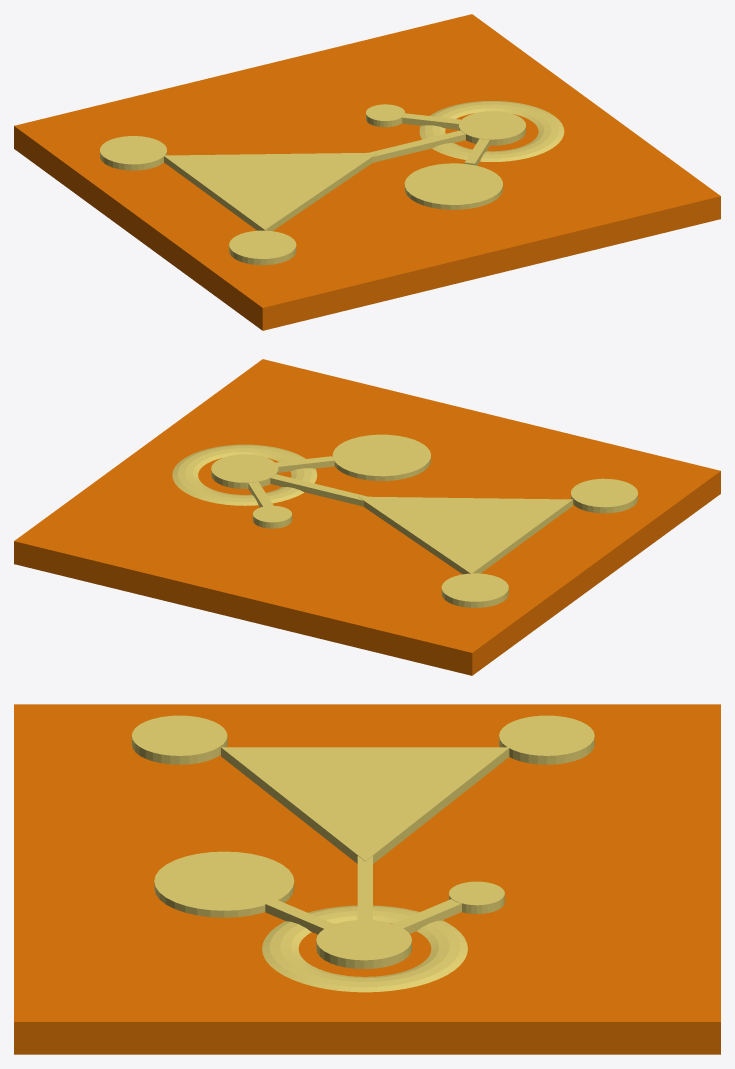
The model's file is Crop_Circle.fbx.
The picture shows the model from 3 angles, top to bottom: view 1: azimuth 30°, elevation 25°; view 2: azimuth 150°, elevation 25°; view 3: azimuth 270°, elevation 25°; orthographic projection. The views are drawn at different scales.
Visible parts, largest first — view 1: Cube, Cube.001, Cylinder.004, Torus, Cylinder.001, Cylinder, Cylinder.002, Cube.002, Cylinder.003, Cube.003; view 2: Cube, Cube.001, Cylinder.004, Torus, Cylinder, Cylinder.001, Cylinder.002, Cube.002, Cylinder.003, Cube.004; view 3: Cube, Cube.001, Cylinder.004, Torus, Cylinder.002, Cylinder.001, Cylinder, Cylinder.003, Cube.004, Cube.003, Cube.002.
Part boxes in pixels (<box>): Cube: <box>14,14,720,330</box>; Cube.001: <box>164,152,377,230</box>; Cylinder.004: <box>404,163,502,209</box>; Torus: <box>419,101,564,161</box>; Cylinder.001: <box>229,230,296,265</box>; Cylinder: <box>100,136,166,170</box>; Cylinder.002: <box>459,111,525,145</box>; Cube.002: <box>370,130,465,162</box>; Cylinder.003: <box>366,104,405,127</box>; Cube.003: <box>402,113,461,129</box>; Cube: <box>14,359,720,675</box>; Cube.001: <box>358,496,572,574</box>; Cylinder.004: <box>332,434,430,480</box>; Torus: <box>172,444,317,505</box>; Cylinder: <box>441,573,508,607</box>; Cylinder.001: <box>571,478,637,513</box>; Cylinder.002: <box>211,454,278,488</box>; Cube.002: <box>270,474,366,506</box>; Cylinder.003: <box>252,505,292,528</box>; Cube.004: <box>275,456,334,472</box>; Cube: <box>14,704,720,1054</box>; Cube.001: <box>221,747,509,863</box>; Cylinder.004: <box>154,851,294,917</box>; Torus: <box>262,905,467,992</box>; Cylinder.002: <box>316,920,411,968</box>; Cylinder.001: <box>131,715,227,764</box>; Cylinder: <box>499,715,594,764</box>; Cylinder.003: <box>449,881,504,913</box>; Cube.004: <box>265,899,334,934</box>; Cube.003: <box>392,899,461,933</box>; Cube.002: <box>357,856,372,920</box>.
Bounding box in the file's own units: 536 × 32.81 × 504.
